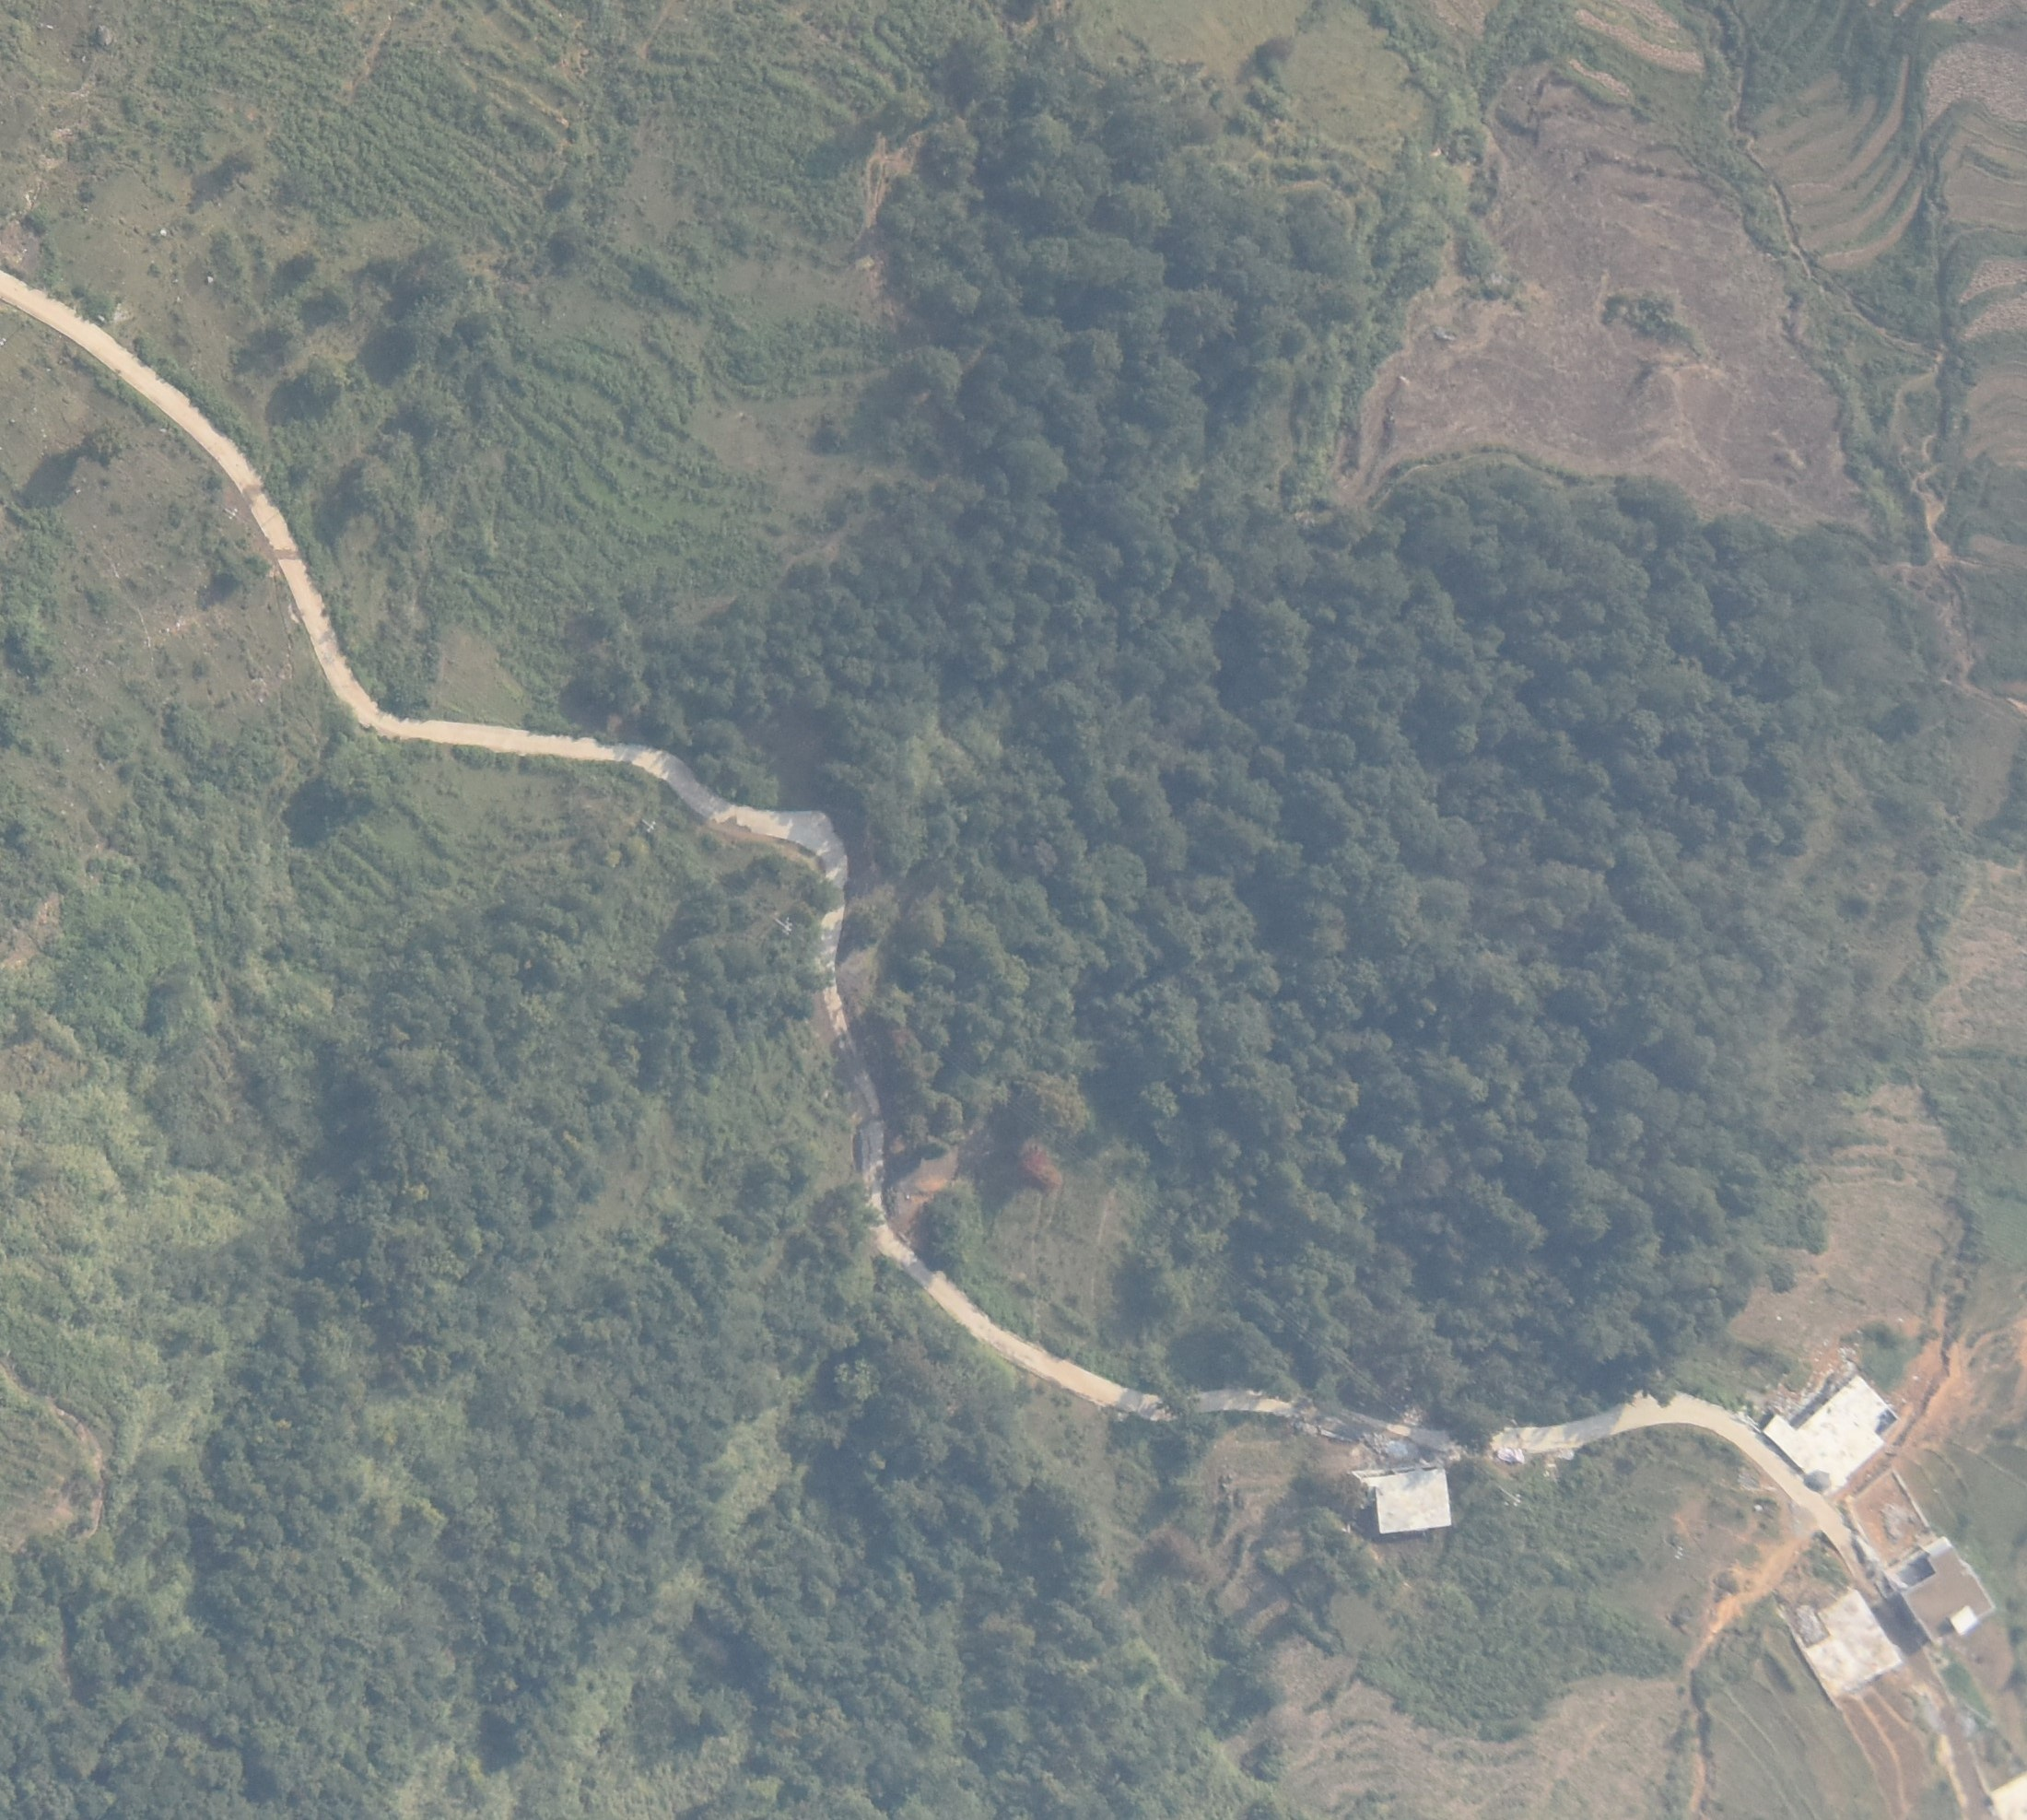building: (1761, 1375, 1900, 1494), (1787, 1590, 1904, 1708), (1890, 1530, 1997, 1650), (1351, 1463, 1452, 1533)
cable-tower: (767, 908, 797, 943), (636, 814, 664, 841)
